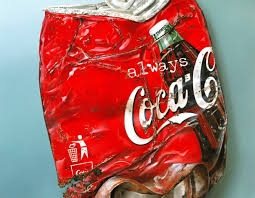metal: (39, 1, 228, 198)
